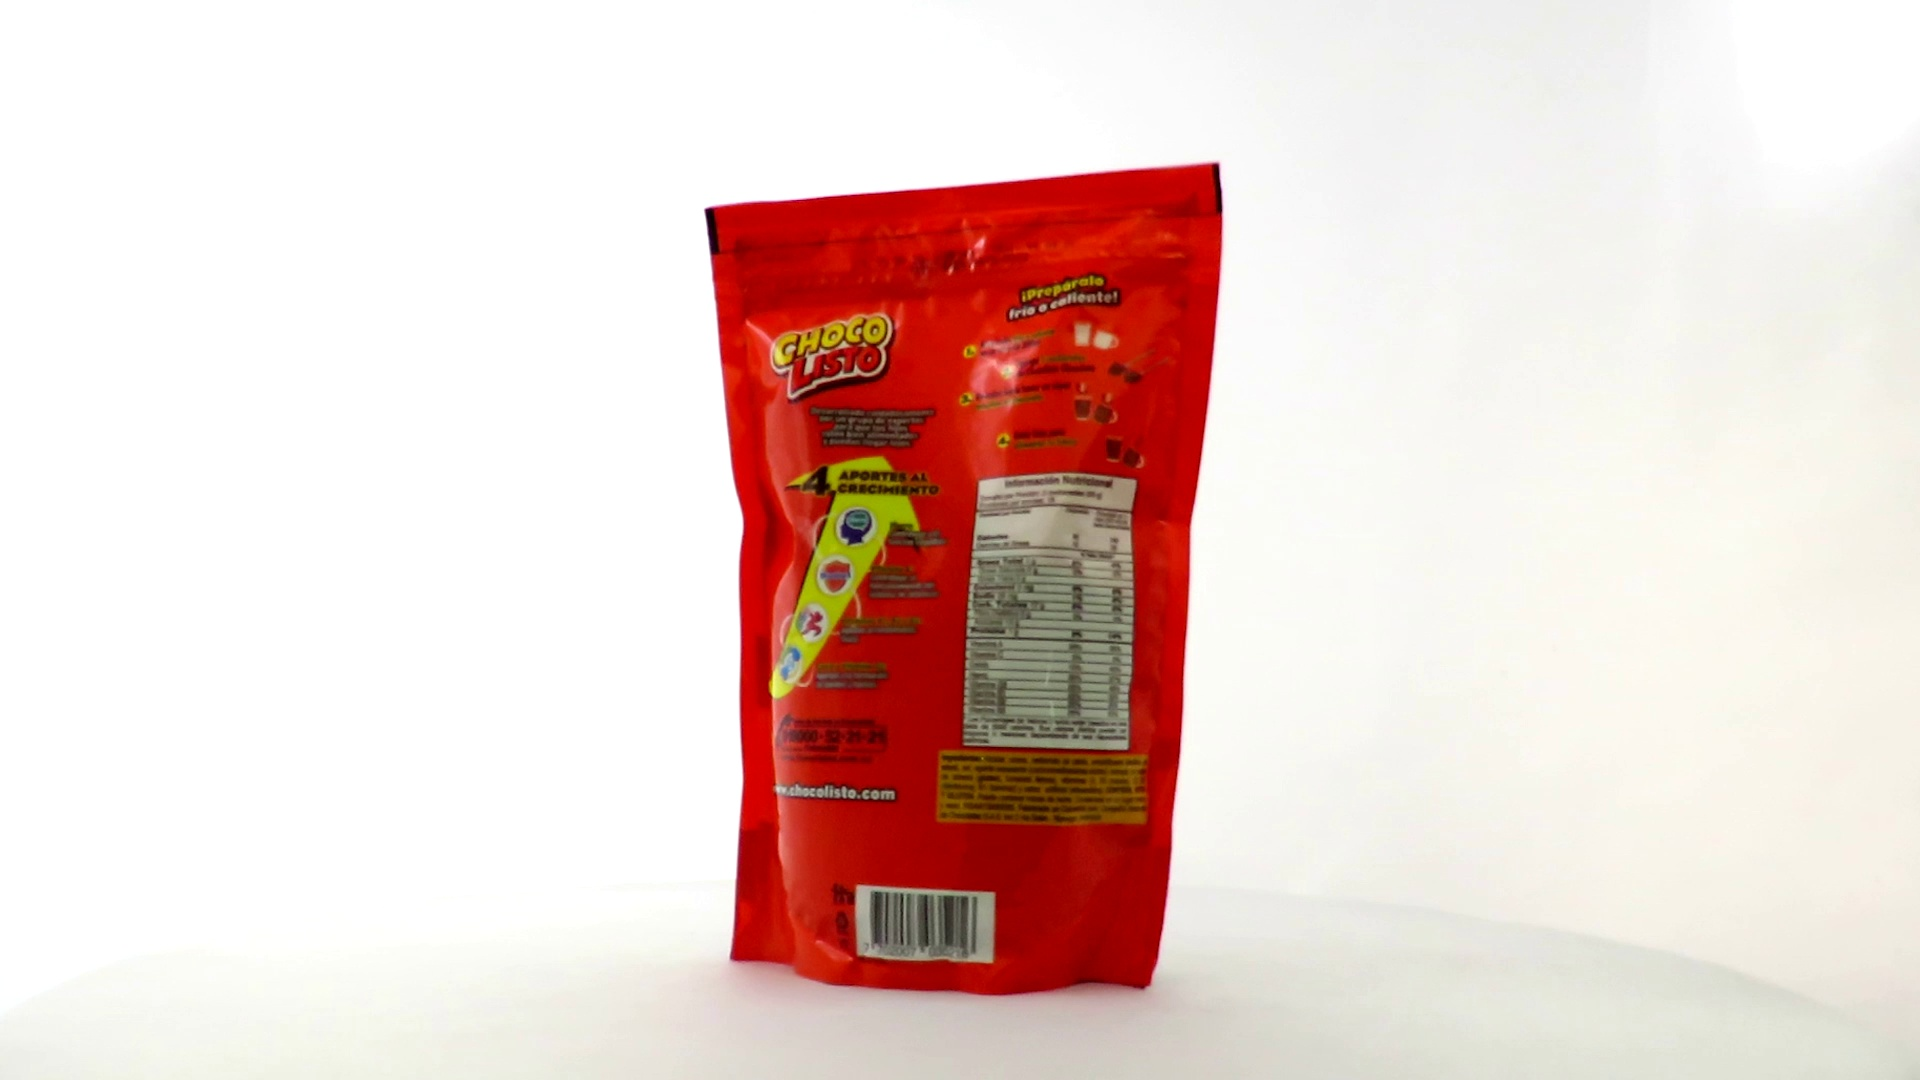COL0170103DYP36000: (699, 158, 1229, 1002)
